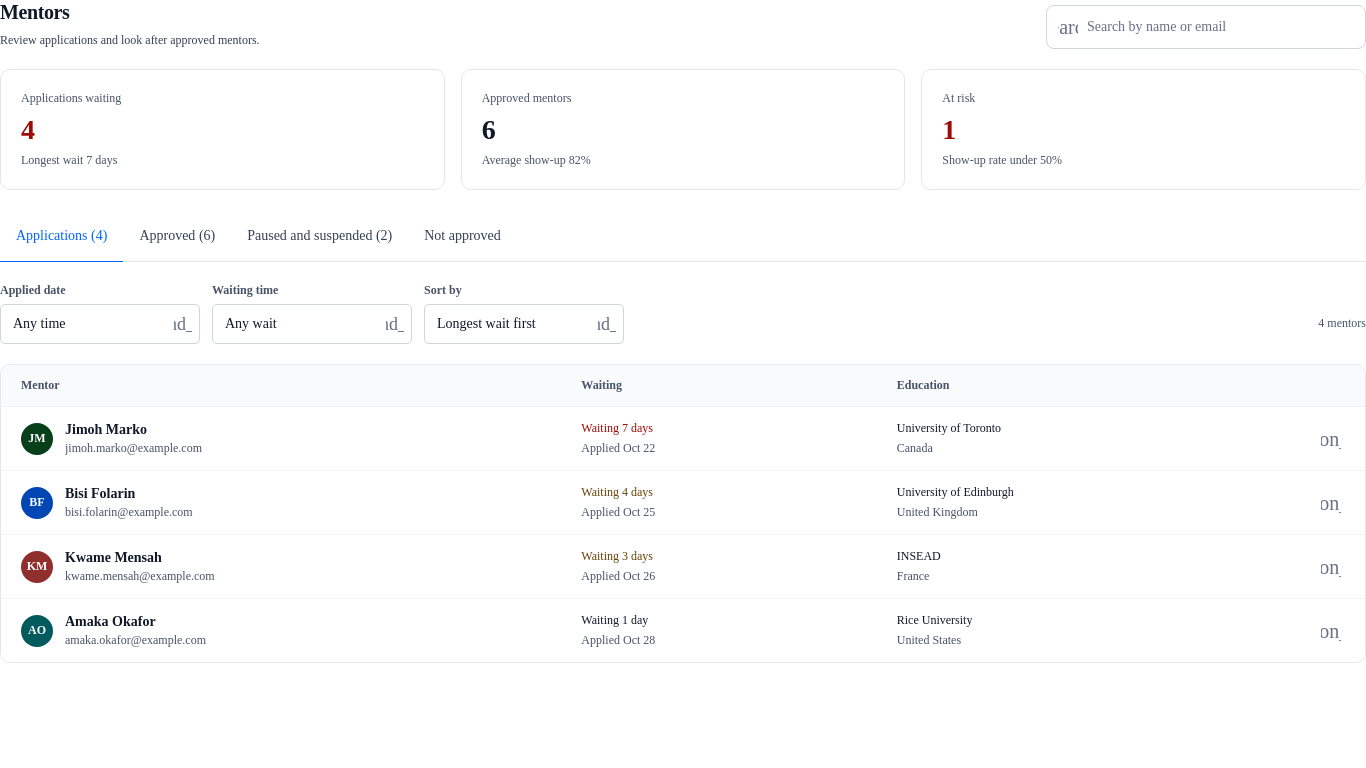
Test: AdminMentorsScreen: limited_access › no checkboxes, no decisions, no Add note; Email stays
This screenshot has width=1366, height=768.
Click the button with aria-label "Open Jimoh Marko" at (134,430), box [65,420,202,440]
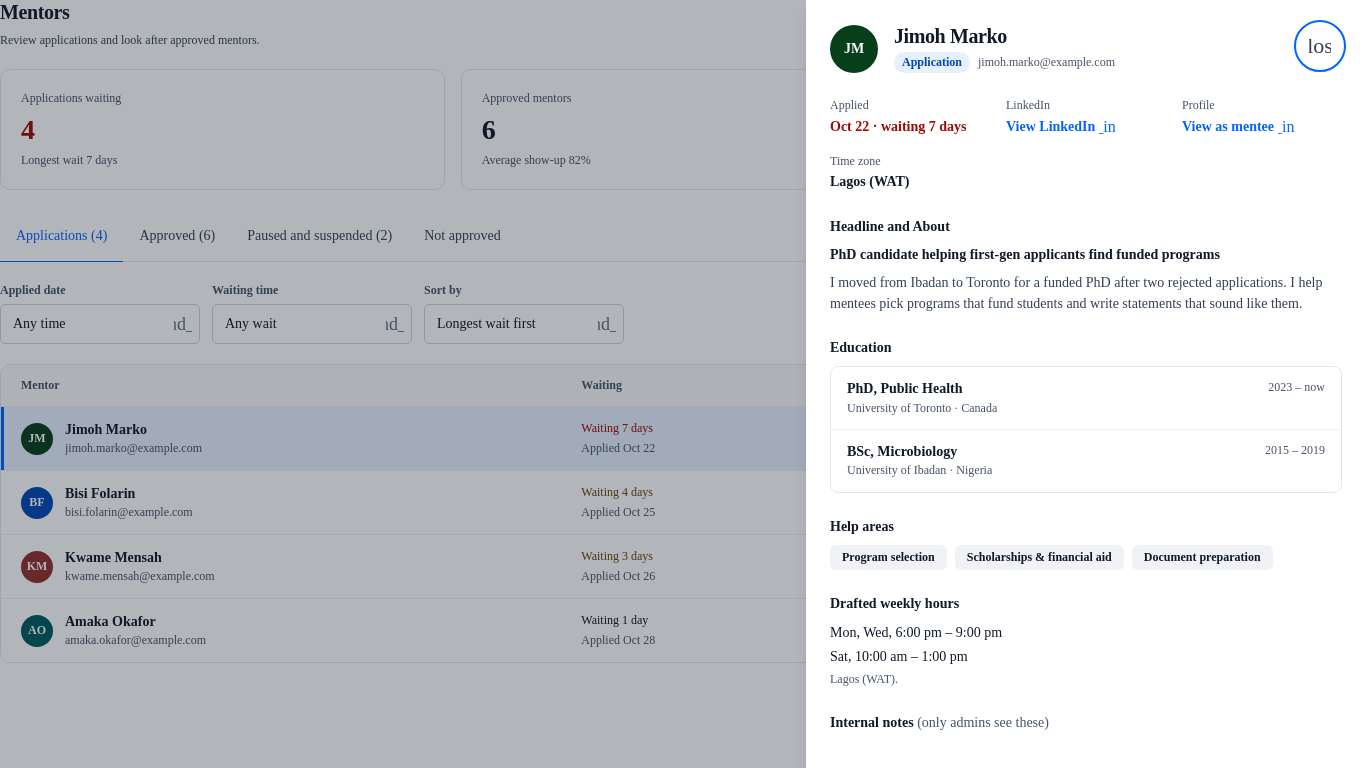
Expected: the heading "Internal notes (only admins see these)" is shown, [830,715,1049,730]
